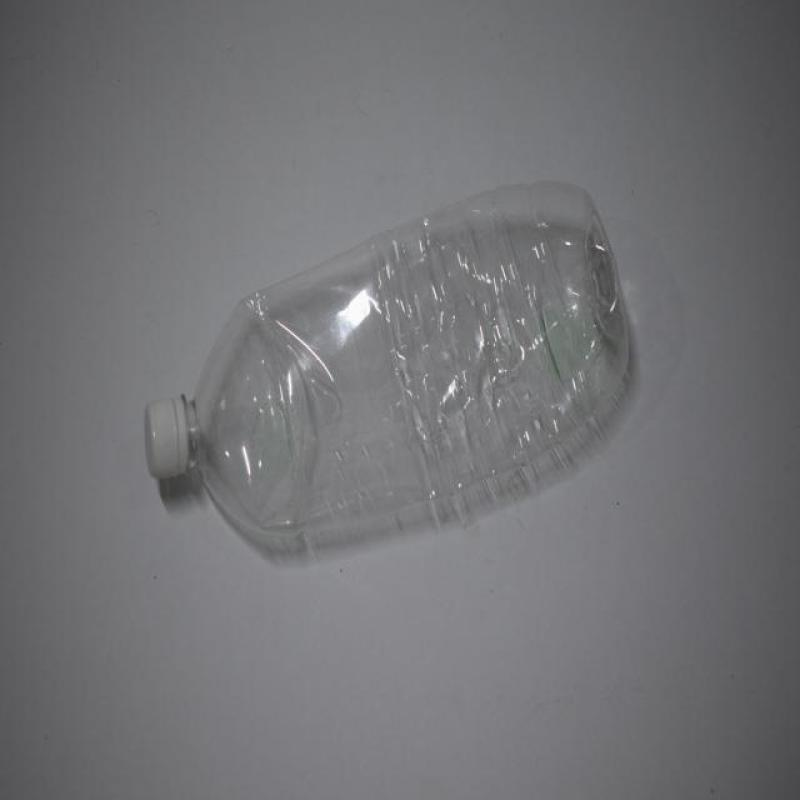botella: (144, 181, 634, 557)
